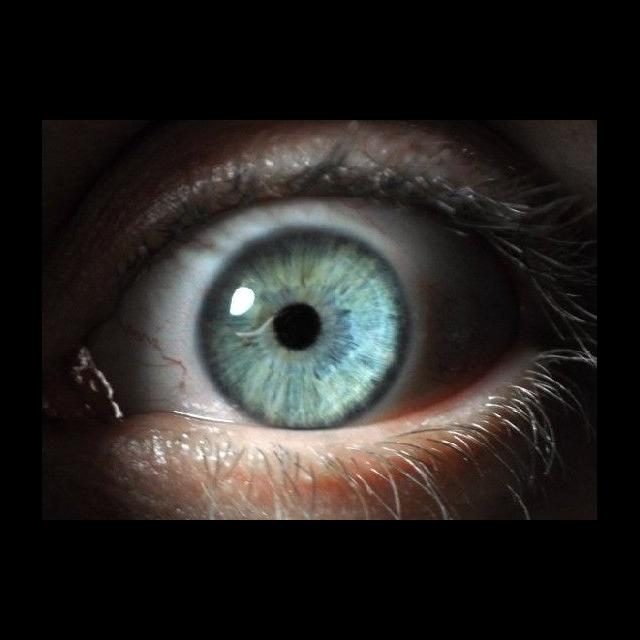eye: (80, 196, 556, 433)
iris: (199, 229, 411, 425)
